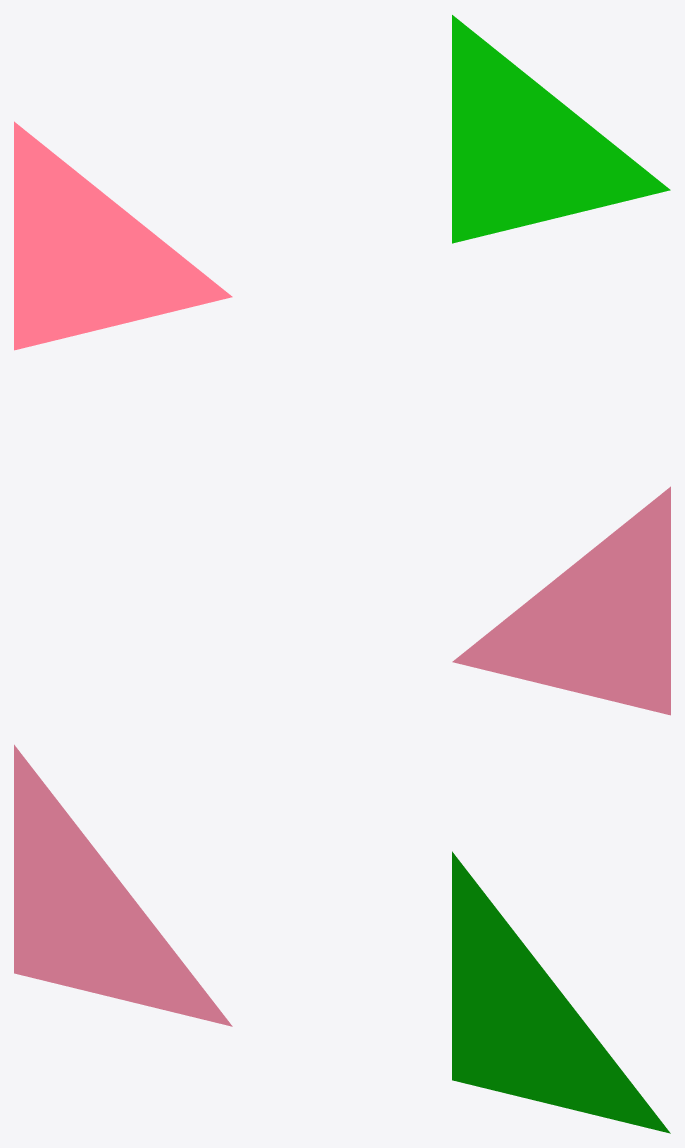
The model's file is two_materials.glb.
The picture shows the model from 3 angles, top to bottom: view 1: azimuth 30°, elevation 25°; view 2: azimuth 150°, elevation 25°; view 3: azimuth 330°, elevation 25°; orthographic projection.
Size of the model in its own units: 3 by 1 by 0.
